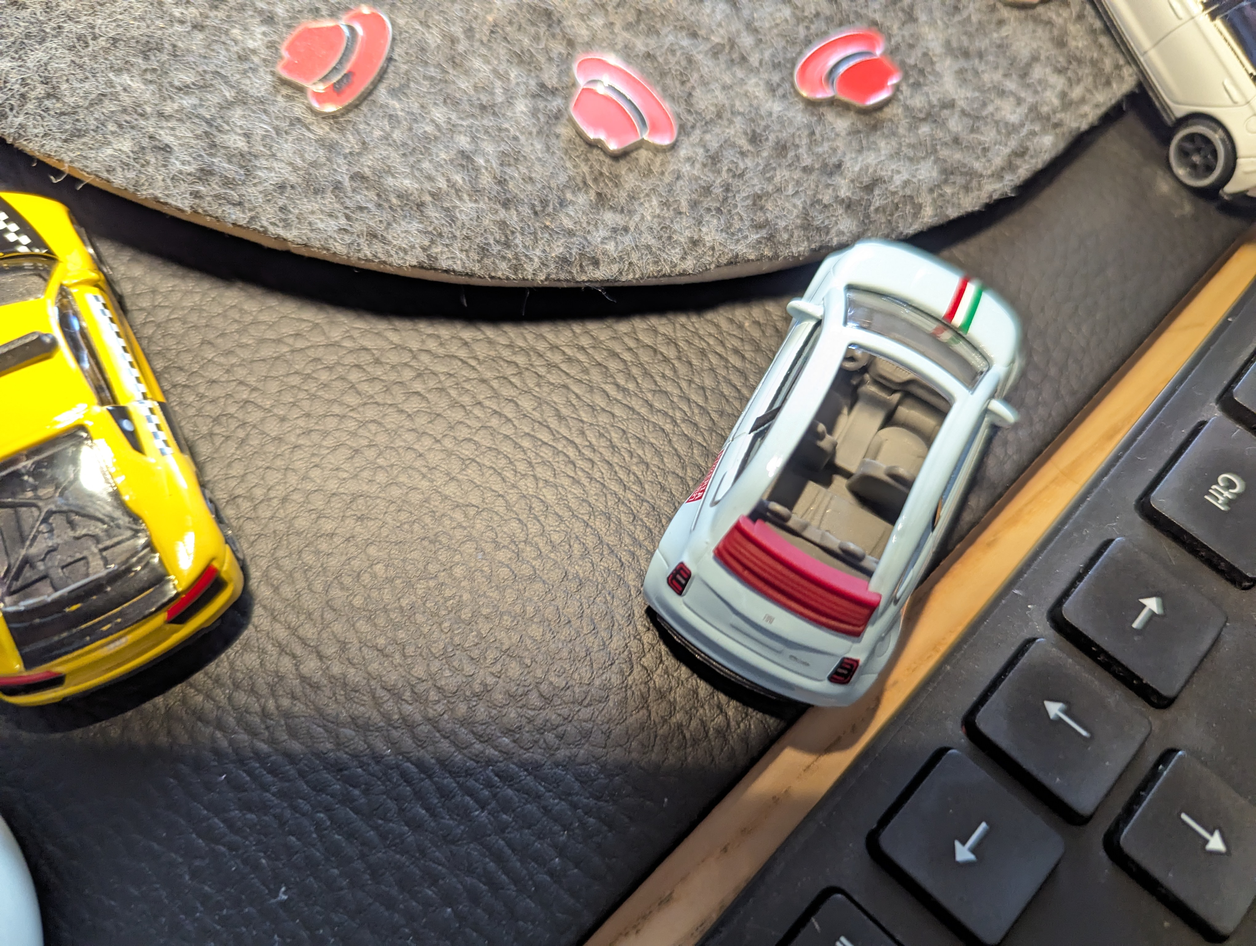Car: (623, 230, 1074, 718), (0, 143, 265, 734)
Red-Hat: (555, 31, 683, 186), (273, 0, 401, 118), (775, 20, 914, 118)
Scratch: (330, 57, 360, 104)
